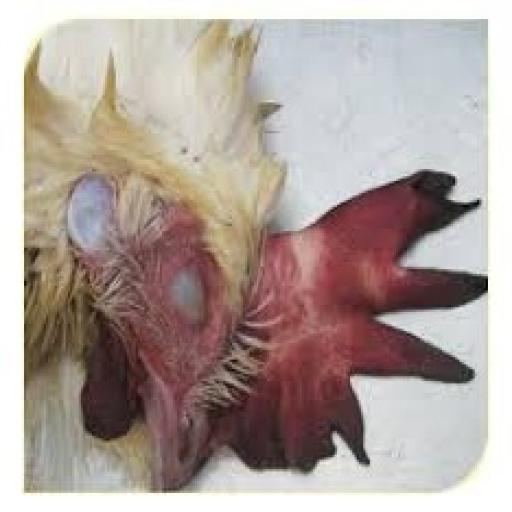disease: (57, 281, 153, 451), (137, 227, 225, 352), (57, 169, 125, 247)
